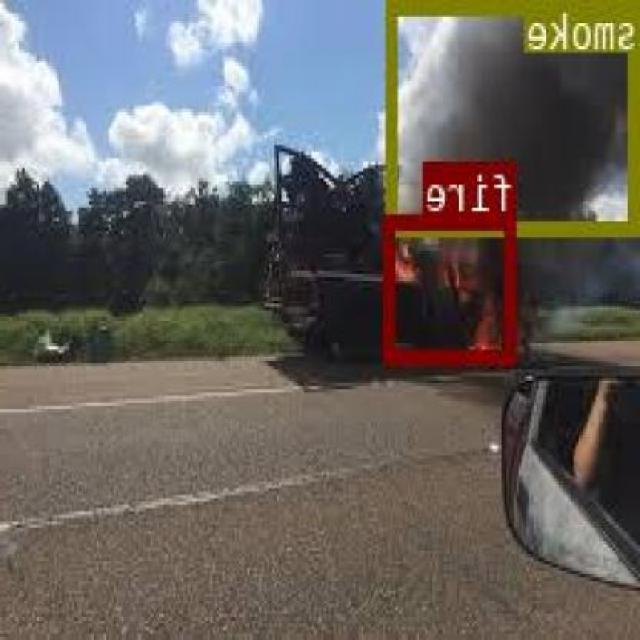Fire: (386, 212, 517, 360)
Smoke: (391, 0, 640, 231)
